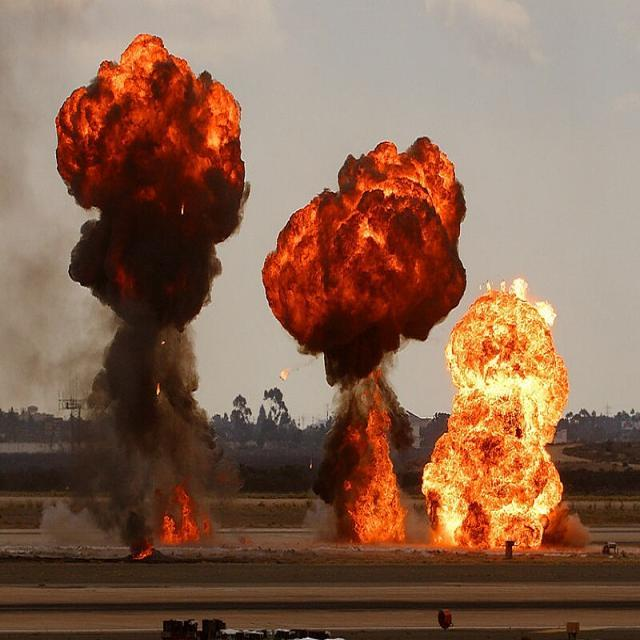fire: (268, 130, 476, 324), (449, 300, 572, 552), (96, 66, 249, 193), (352, 404, 417, 550), (136, 473, 214, 552)
